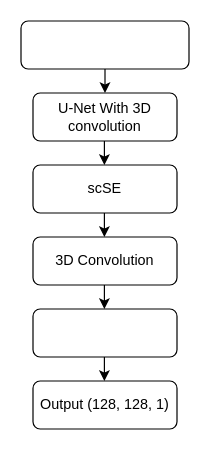
Some shapes in this 210 by 450 pixel diagram are drawn without their labels. Here are the shapes that lost their labels. From the top down, the box of each, then its label:
(20, 20, 189, 69): Image (128, 128, 2, 3)
(32, 308, 177, 357): 2D Convolution
